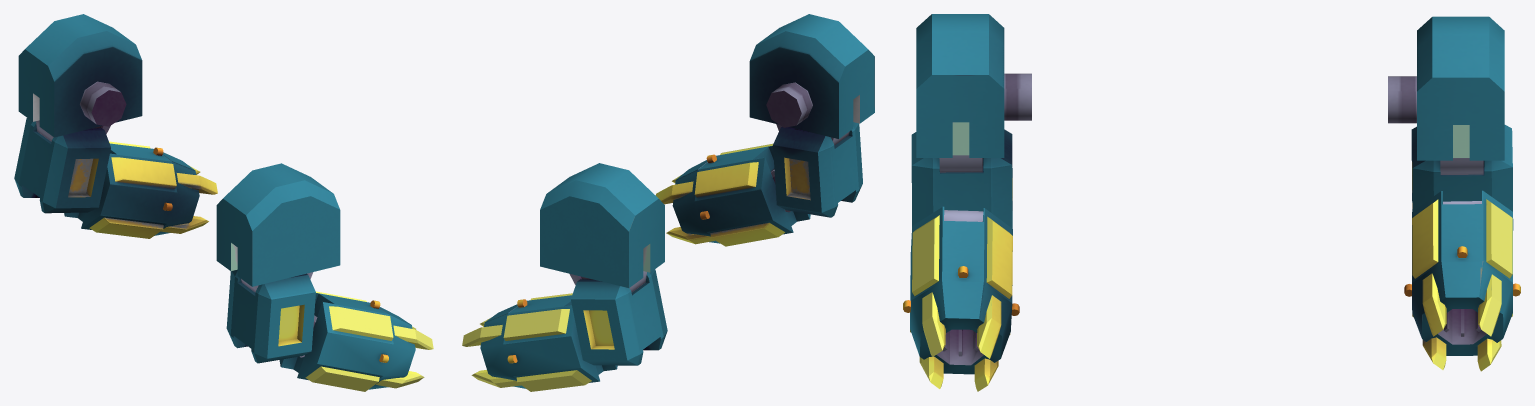
File: Player_Idle1.obj
3 views of the same model, side by side, from view 1: azimuth 30°, elevation 25°; view 2: azimuth 150°, elevation 25°; view 3: azimuth 270°, elevation 25° (orthographic). The views are drawn at different scales.
Visible parts, largest first — view 1: Object005, Object003, Object001, Object007, Object006, Object002; view 2: Object003, Object005, Object001, Object007, Object006, Object002; view 3: Object001, Object007, Object005, Object003, Object002, Object006.
Boxes of the visible parts, x1,y1,x2,y2 form: Object005: (18, 14, 142, 137); Object003: (216, 163, 340, 286); Object001: (279, 291, 433, 391); Object007: (64, 141, 217, 238); Object006: (14, 118, 110, 213); Object002: (226, 269, 315, 363); Object003: (749, 14, 874, 138); Object005: (540, 163, 664, 287); Object001: (656, 143, 810, 246); Object007: (462, 293, 617, 391); Object006: (569, 269, 667, 365); Object002: (773, 122, 862, 217); Object001: (903, 206, 1019, 391); Object007: (1404, 190, 1520, 371); Object005: (1388, 16, 1504, 160); Object003: (916, 14, 1031, 157); Object002: (911, 129, 1012, 228); Object006: (1411, 125, 1513, 230).
Bounding box in the file's own units: 37.01 × 43.4 × 83.7.
Materials: 1 (1 with a texture image).
